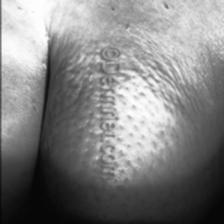Potentially Malignant Skin Tumors: (122, 55, 188, 191), (52, 53, 95, 198), (99, 196, 167, 224)
